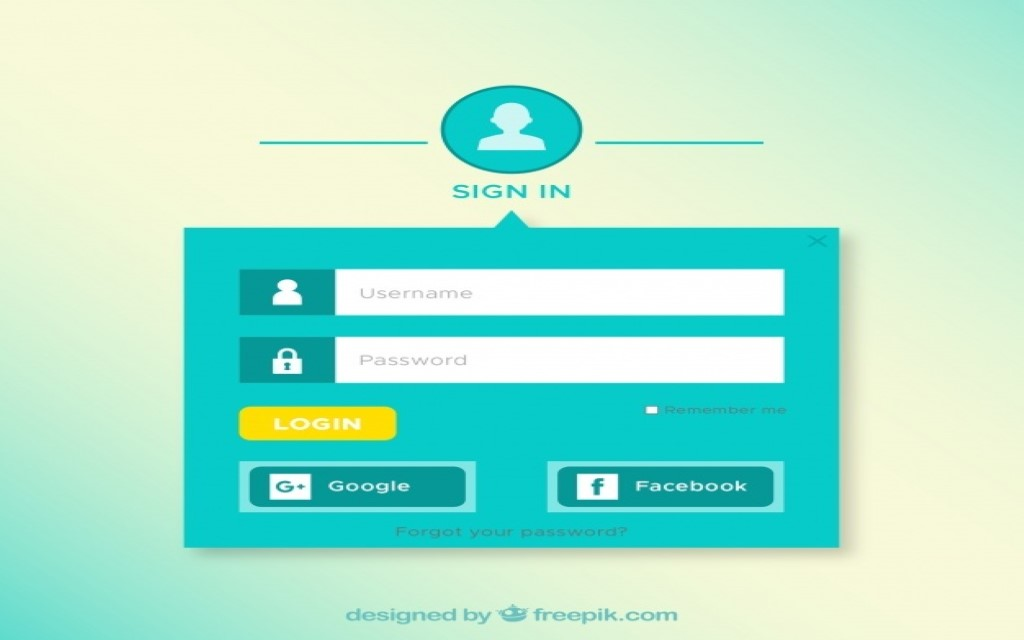button: (556, 464, 774, 508), (248, 465, 466, 507), (235, 406, 398, 438)
button_login: (236, 406, 397, 439)
label_LogIn: (272, 415, 363, 434)
label_Username: (354, 285, 473, 303)
label_password: (358, 351, 469, 371)
textbox: (334, 269, 783, 317), (334, 337, 785, 384)
textbox_Password: (334, 339, 784, 383)
textbox_username: (334, 270, 782, 317)
